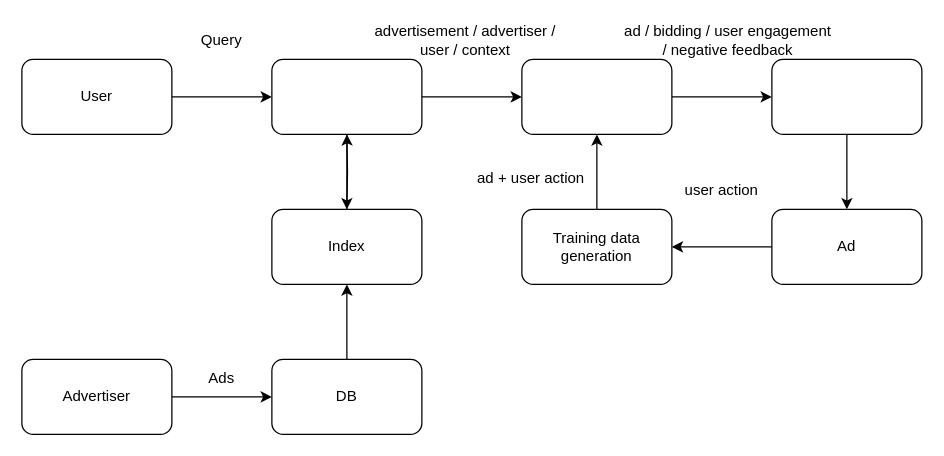
This 944x456 diagram has some shape labels left out. Here are the shapes that lost their labels. From the top down, the centre of each, then its label:
At (x=346, y=96): "Ad selection".
At (x=596, y=96): "Ad prediction".
At (x=846, y=96): "Auction".
